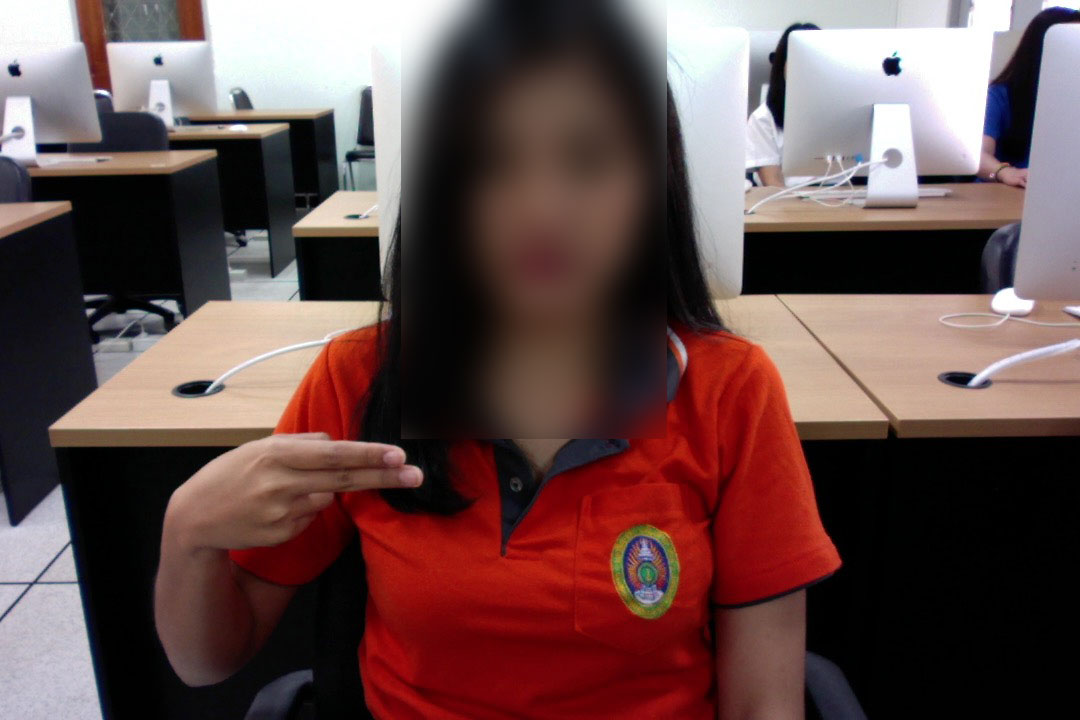hor: (152, 422, 440, 553)
